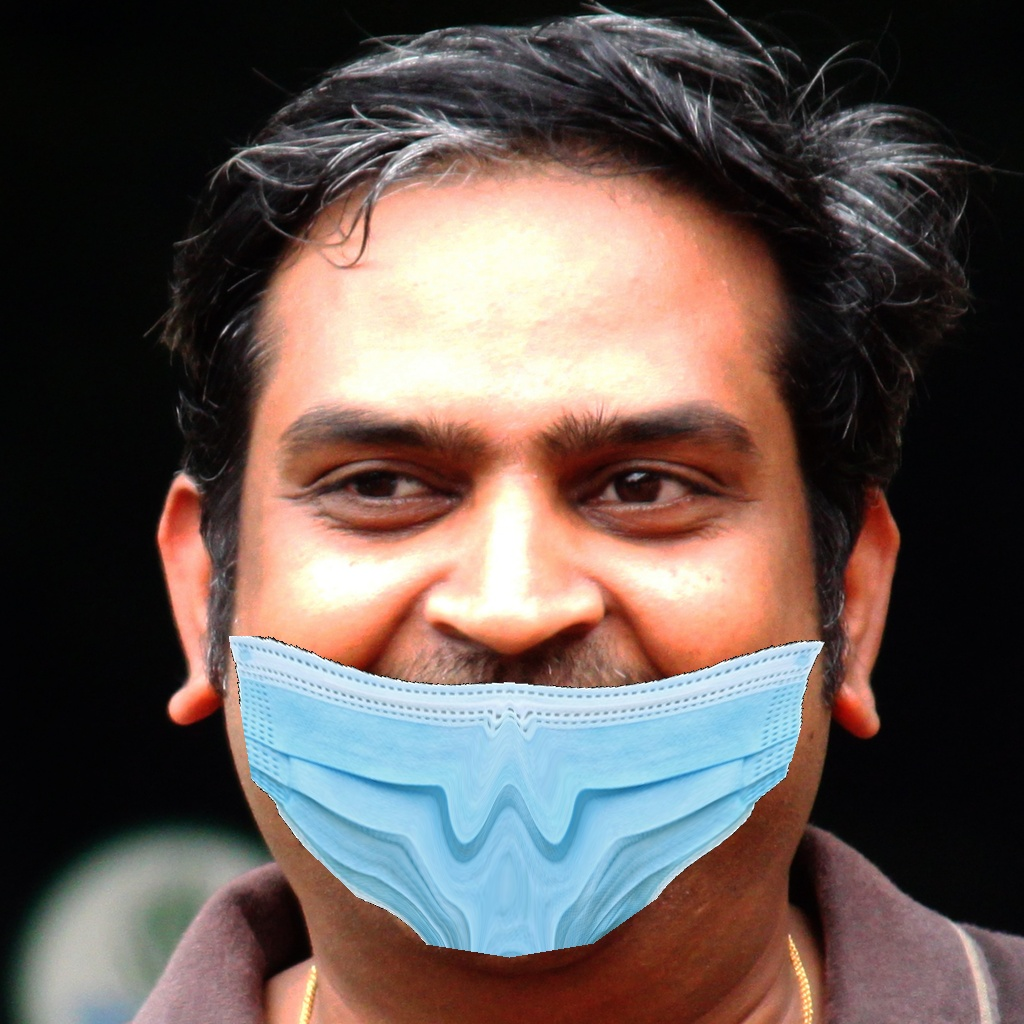mascarilla_mal_puesta: (194, 363, 849, 990)
